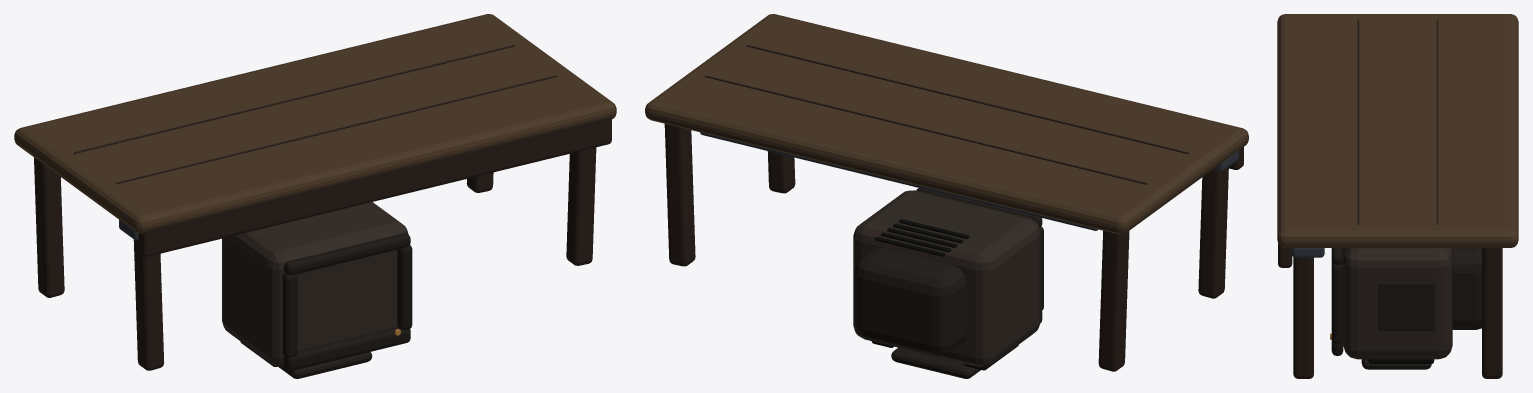
Rendered from workstation.glb.
3 views of the same model, side by side, from view 1: azimuth 30°, elevation 25°; view 2: azimuth 150°, elevation 25°; view 3: azimuth 270°, elevation 25° (orthographic). The views are drawn at different scales.
Parts seen in each view (by area): view 1: DeskTop_Beveled, CRT_MainShell, DeskFrontApron, DeskLeg_L_B, DeskLeg_L_F, DeskLeg_R_F, CRT_BezelBottom, CRT_BezelTop, CRT_BezelLeft, CRT_BezelRight, Desk_Inlay_-0.18, Desk_Inlay_+0.18 (+1 smaller); view 2: DeskTop_Beveled, CRT_MainShell, CRT_RearHump, DeskLeg_R_B, DeskLeg_L_B, DeskLeg_L_F, CRT_StandBase, DeskRearRail, Desk_Inlay_+0.18, Desk_Inlay_-0.18, DeskLeg_R_F, CRT_BezelTop; view 3: DeskTop_Beveled, CRT_MainShell, CRT_SideSeam, DeskLeg_R_B, DeskLeg_R_F, CRT_RearHump, CRT_BezelRight, Desk_Inlay_+0.18, Desk_Inlay_-0.18, CRT_StandBase, DeskBracket_R, CRT_Foot_R (+1 smaller).
Boxes of the visible parts, x1=… form: DeskTop_Beveled: x1=14, y1=14, x2=616, y2=233; CRT_MainShell: x1=222, y1=202, x2=408, y2=366; DeskFrontApron: x1=138, y1=117, x2=611, y2=256; DeskLeg_L_B: x1=34, y1=157, x2=64, y2=297; DeskLeg_L_F: x1=133, y1=239, x2=164, y2=370; DeskLeg_R_F: x1=566, y1=147, x2=596, y2=265; CRT_BezelBottom: x1=284, y1=326, x2=410, y2=370; CRT_BezelTop: x1=284, y1=233, x2=410, y2=275; CRT_BezelLeft: x1=282, y1=273, x2=297, y2=358; CRT_BezelRight: x1=397, y1=245, x2=412, y2=329; Desk_Inlay_-0.18: x1=115, y1=75, x2=557, y2=184; Desk_Inlay_+0.18: x1=74, y1=45, x2=515, y2=153; DeskTop_Beveled: x1=645, y1=14, x2=1248, y2=234; CRT_MainShell: x1=853, y1=190, x2=1040, y2=367; CRT_RearHump: x1=854, y1=248, x2=966, y2=356; DeskLeg_R_B: x1=664, y1=124, x2=695, y2=266; DeskLeg_L_B: x1=1098, y1=230, x2=1129, y2=371; DeskLeg_L_F: x1=1198, y1=167, x2=1228, y2=298; CRT_StandBase: x1=891, y1=347, x2=980, y2=378; DeskRearRail: x1=700, y1=132, x2=1098, y2=230; Desk_Inlay_+0.18: x1=704, y1=75, x2=1147, y2=184; Desk_Inlay_-0.18: x1=746, y1=45, x2=1189, y2=154; DeskLeg_R_F: x1=767, y1=151, x2=795, y2=193; CRT_BezelTop: x1=916, y1=188, x2=1042, y2=227; DeskTop_Beveled: x1=1277, y1=14, x2=1518, y2=247; CRT_MainShell: x1=1343, y1=248, x2=1452, y2=359; CRT_SideSeam: x1=1378, y1=282, x2=1435, y2=330; DeskLeg_R_B: x1=1482, y1=248, x2=1502, y2=378; DeskLeg_R_F: x1=1293, y1=257, x2=1313, y2=378; CRT_RearHump: x1=1452, y1=248, x2=1481, y2=329; CRT_BezelRight: x1=1331, y1=263, x2=1343, y2=344; Desk_Inlay_+0.18: x1=1436, y1=19, x2=1438, y2=224; Desk_Inlay_-0.18: x1=1357, y1=19, x2=1359, y2=224; CRT_StandBase: x1=1361, y1=359, x2=1431, y2=369; DeskBracket_R: x1=1291, y1=248, x2=1324, y2=257; CRT_Foot_R: x1=1368, y1=359, x2=1434, y2=363.
Size of the model in its own units: 2.4 by 1.17 by 1.1.
